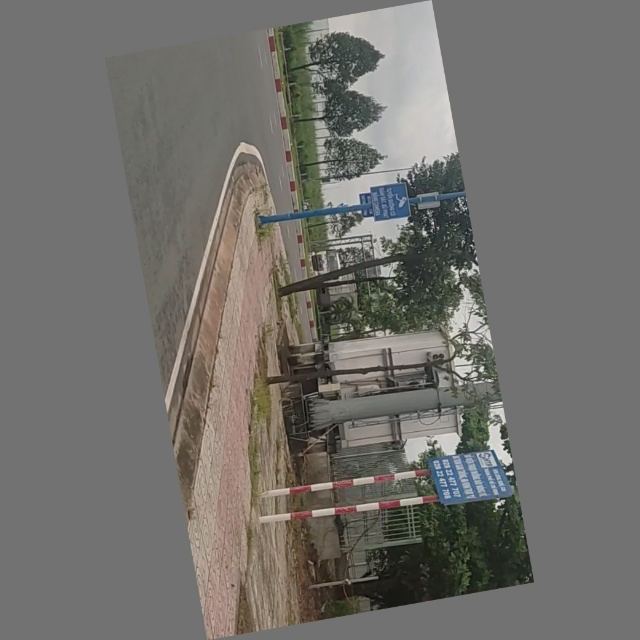Camera: (366, 176, 417, 226)
